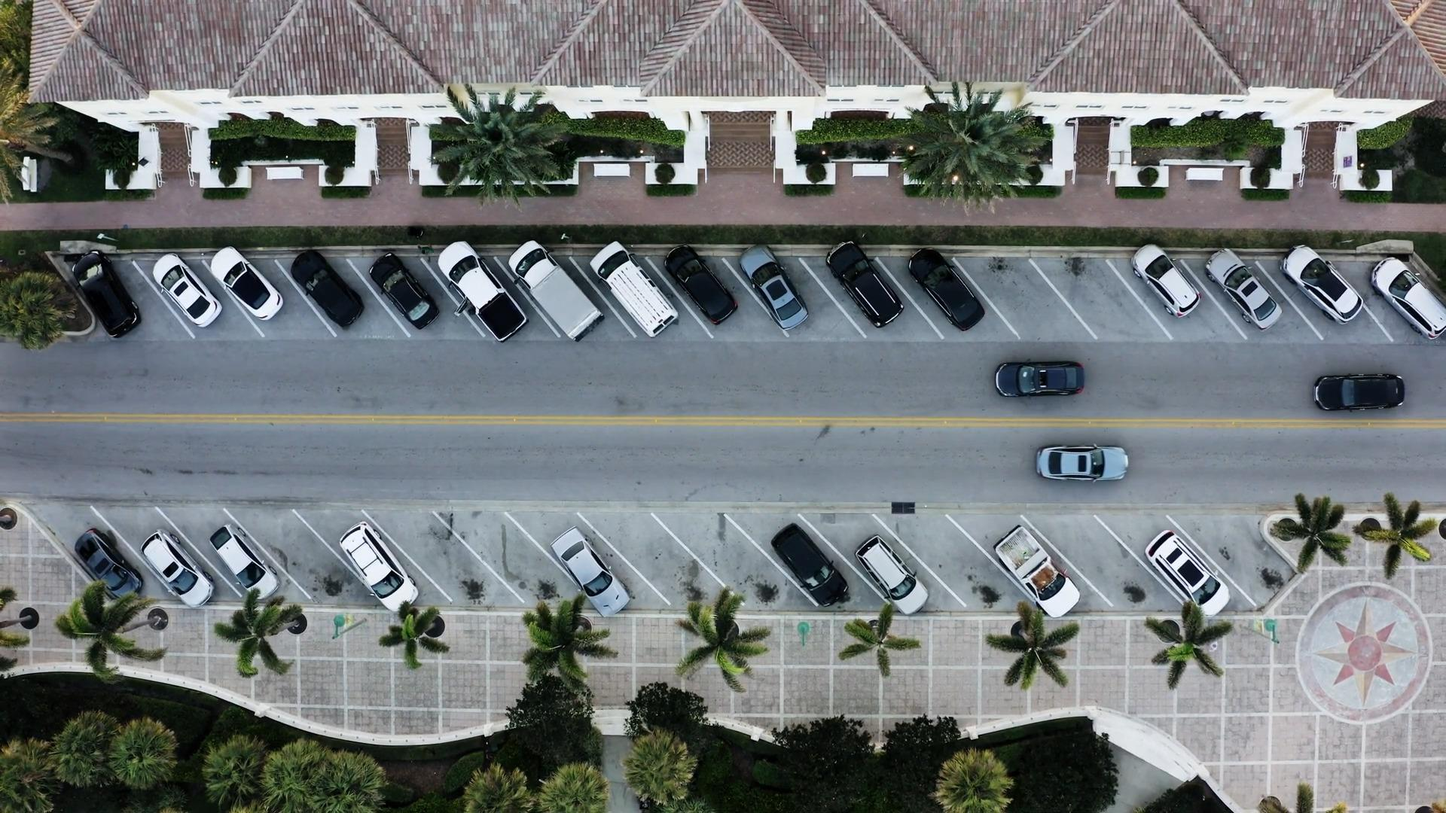free: (425, 512, 532, 600), (686, 522, 745, 635), (639, 525, 694, 641)
occupied: (406, 237, 664, 347), (108, 518, 292, 610), (1121, 244, 1288, 338), (778, 520, 917, 616), (996, 526, 1078, 618), (1144, 527, 1230, 613), (339, 522, 420, 610), (552, 529, 632, 617), (66, 249, 142, 338), (826, 243, 901, 329), (1369, 259, 1446, 339), (291, 249, 366, 328), (367, 251, 441, 331), (908, 248, 980, 329), (74, 529, 144, 599), (1313, 374, 1404, 412), (995, 359, 1084, 397), (1036, 444, 1123, 478), (66, 250, 104, 283)
